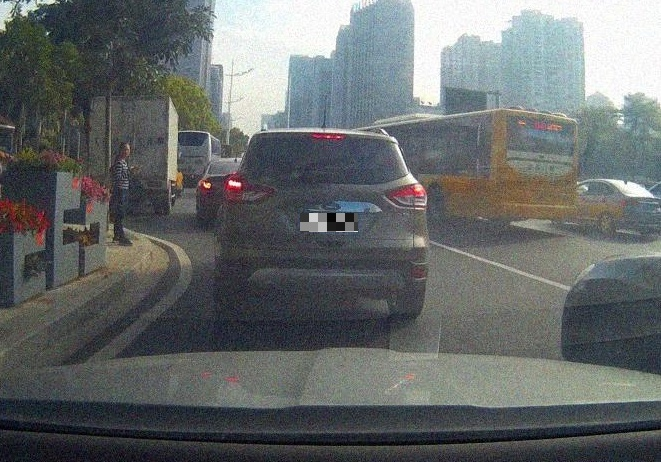L_light: (222, 177, 273, 204)
R_light: (385, 183, 427, 208)
T_light: (311, 133, 346, 140)
day-left: (214, 128, 428, 318)
plate_1: (300, 213, 358, 232)
